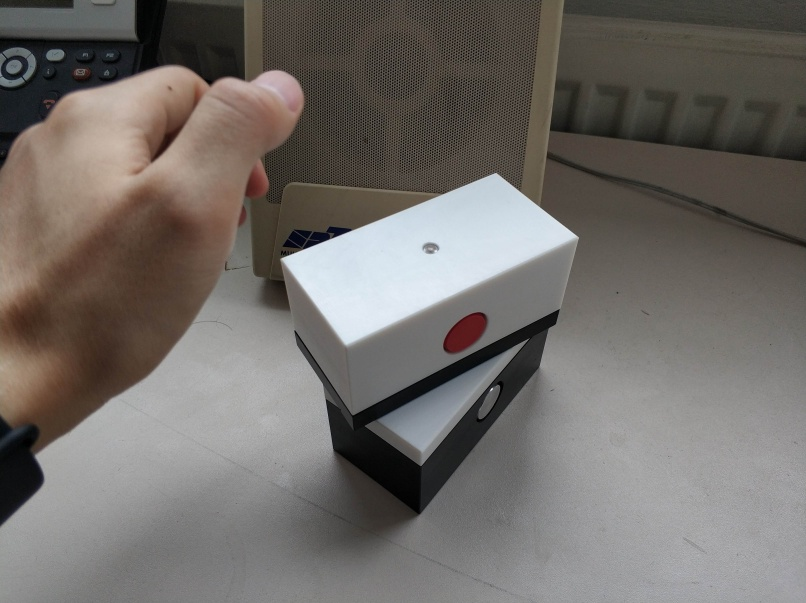black+white+red: (323, 338, 543, 518)
white+black+silver: (279, 168, 582, 427)
